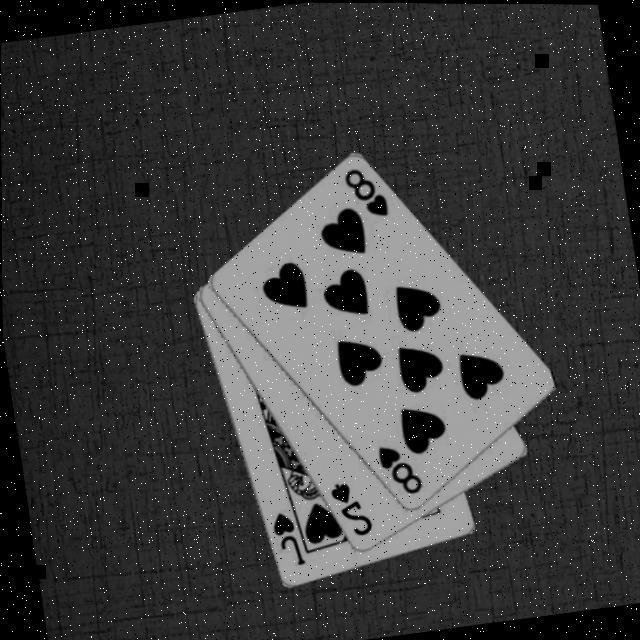2S: (326, 474, 376, 540)
8H: (374, 436, 426, 499), (340, 159, 391, 221)
JH: (267, 505, 307, 569)
